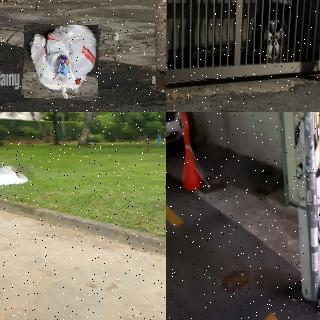Garbage: (23, 23, 99, 100), (0, 164, 34, 193)
